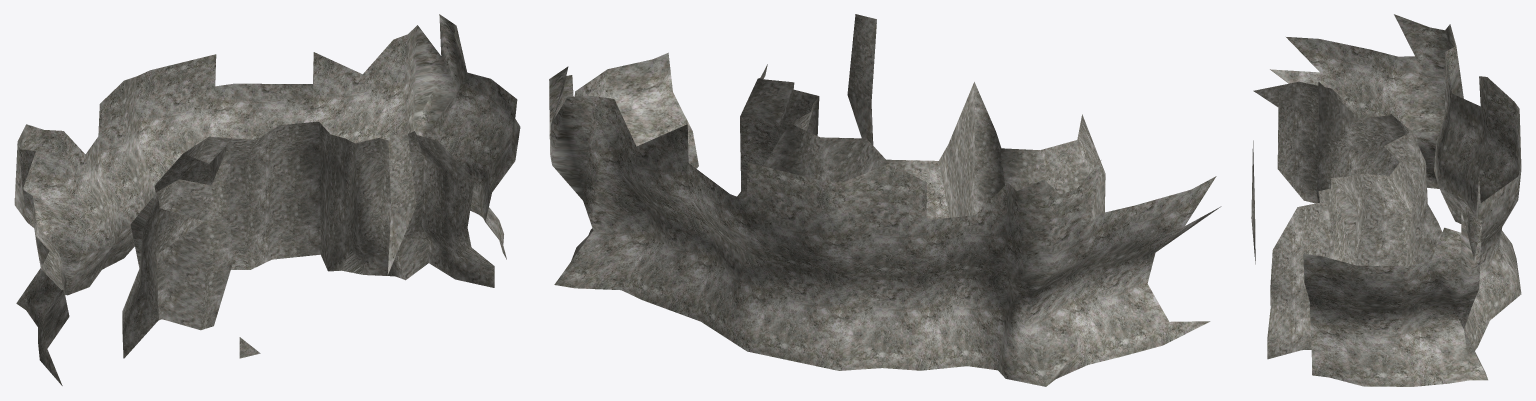
Rendered from DWARF_PALACE_FORGE_CAVEC03.fbx.
3 views of the same model, side by side, from view 1: azimuth 30°, elevation 25°; view 2: azimuth 150°, elevation 25°; view 3: azimuth 270°, elevation 25° (orthographic). The views are drawn at different scales.
Visible parts, largest first — view 1: DWARF_PALACE_FORGE_CAVEC03; view 2: DWARF_PALACE_FORGE_CAVEC03; view 3: DWARF_PALACE_FORGE_CAVEC03.
Boxes of the visible parts, <box> form: DWARF_PALACE_FORGE_CAVEC03: <box>14,14,520,385</box>; DWARF_PALACE_FORGE_CAVEC03: <box>549,14,1221,386</box>; DWARF_PALACE_FORGE_CAVEC03: <box>1251,14,1521,386</box>.
Size of the model in its own units: 830519 by 289874 by 413136.
1 material, 1 textured.
